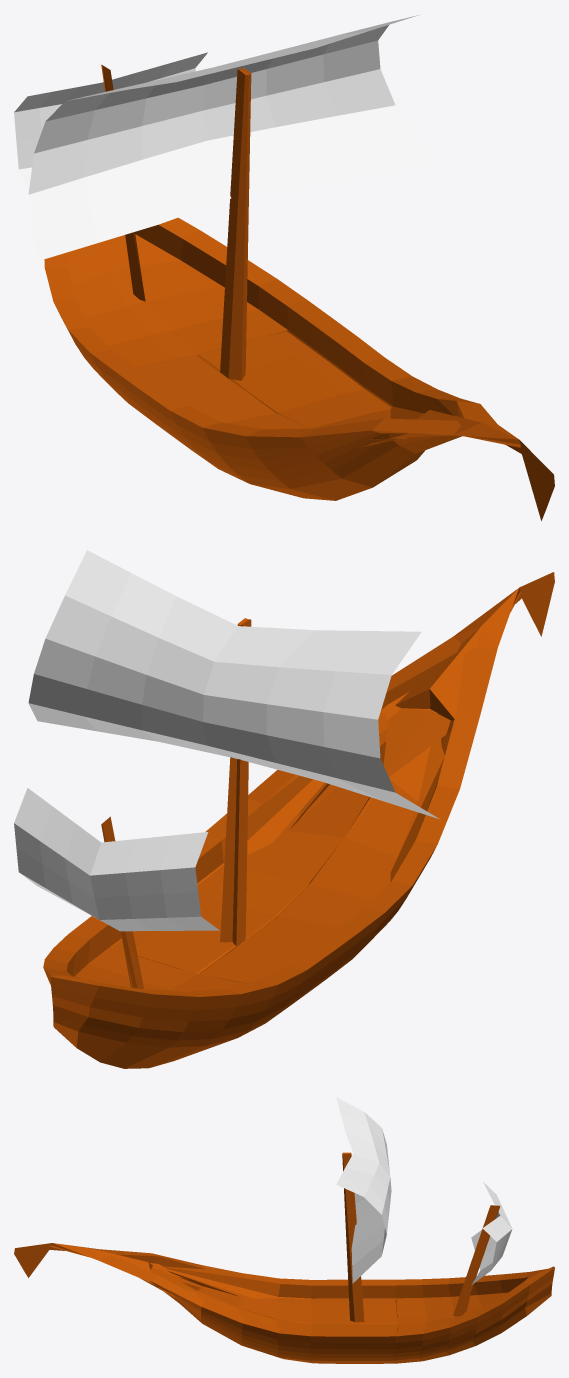
Rendered from SampanBoatDone.glb.
3 renders of one model, top to bottom at view 1: azimuth 30°, elevation 25°; view 2: azimuth 150°, elevation 25°; view 3: azimuth 270°, elevation 25°, orthographic. The views are drawn at different scales.
Parts seen in each view (by area): view 1: Cube; view 2: Cube; view 3: Cube.
Boxes of the visible parts, x1,y1,x2,y2 form: Cube: (14,15,554,520); Cube: (14,550,554,1068); Cube: (14,1097,554,1363).
Size of the model in its own units: 198 by 195 by 429.
Materials: 1 (1 with a texture image).
